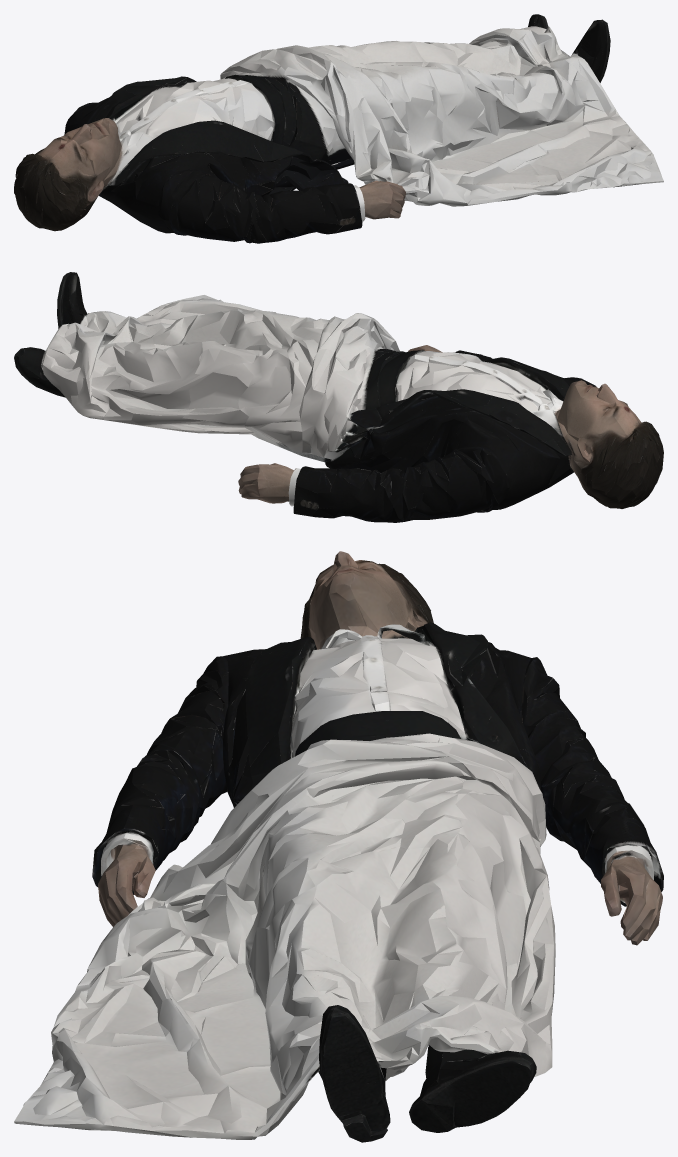
Rendered from Meshy_Murder_Victim-texture.glb.
3 views of the same model, one above another, from view 1: azimuth 30°, elevation 25°; view 2: azimuth 150°, elevation 25°; view 3: azimuth 270°, elevation 25° (orthographic). The views are drawn at different scales.
Visible parts, largest first — view 1: output_unwrapped; view 2: output_unwrapped; view 3: output_unwrapped.
Boxes of the visible parts, x1,y1,x2,y2 form: output_unwrapped: (14,14,663,243); output_unwrapped: (14,272,663,522); output_unwrapped: (14,551,663,1142).
Size of the model in its own units: 1.9 by 0.3618 by 1.1.
Materials: 1 (1 with a texture image).
